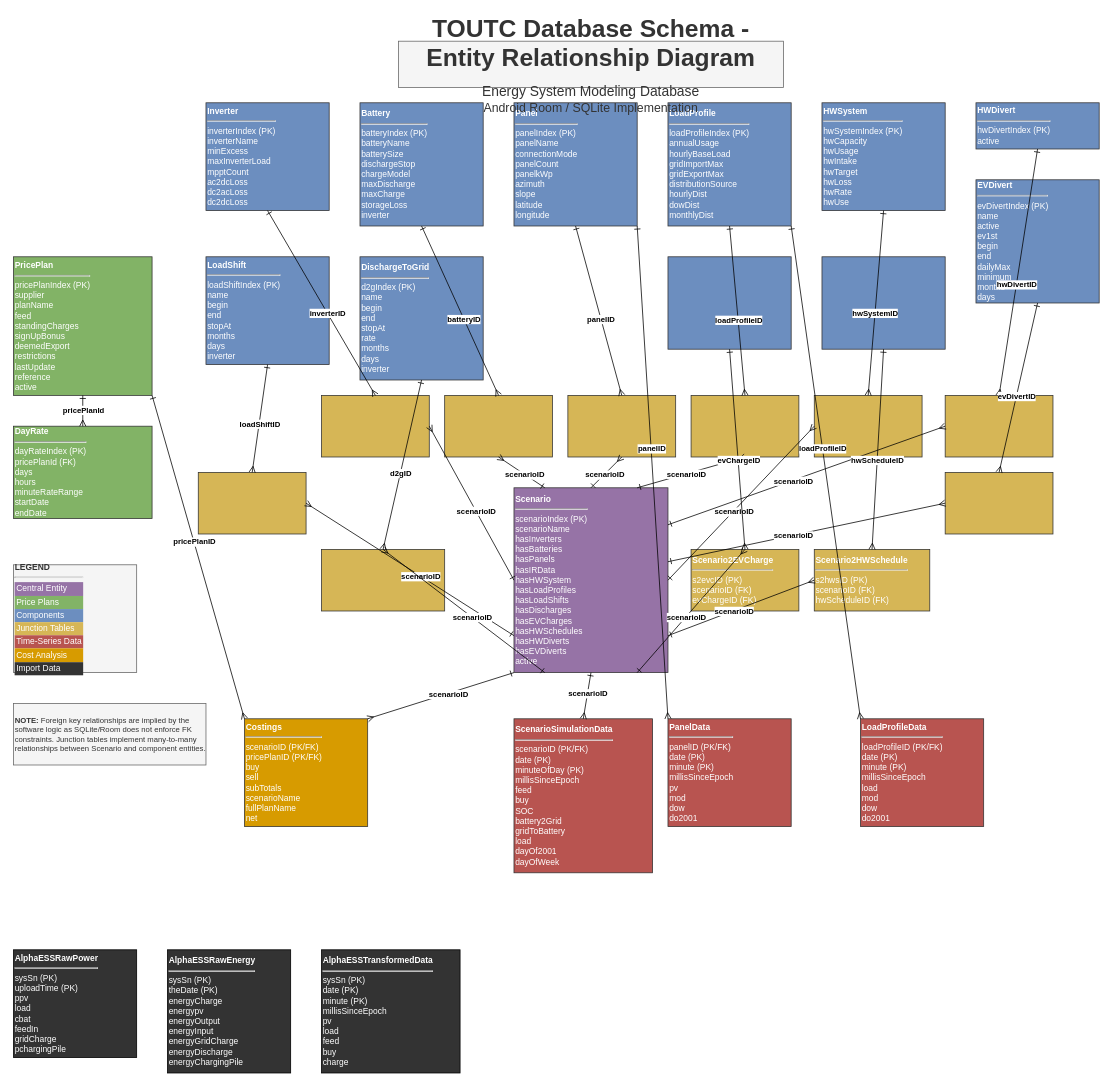
This 1113x1086 diagram has some shape labels left out. The centre of each missing label's shape, as x and y in pixels:
"EVCharge evChargeIndex (PK) name begin end draw months days" goes at point (729, 302).
"HWSchedule hwScheduleIndex (PK) name begin end months days" goes at point (883, 302).
"Scenario2Battery s2bID (PK) scenarioID (FK) batteryID (FK)" goes at point (498, 426).
"Scenario2DischargeToGrid s2d2gID (PK) scenarioID (FK) d2gID (FK)" goes at point (383, 580).
"Scenario2EVDivert s2evdID (PK) scenarioID (FK) evDivertID (FK)" goes at point (998, 503).
"Scenario2HWDivert s2hwdID (PK) scenarioID (FK) hwDivertID (FK)" goes at point (998, 426).
"Scenario2HWSystem s2hwID (PK) scenarioID (FK) hwSystemID (FK)" goes at point (868, 426).
"Scenario2Inverter s2iID (PK) scenarioID (FK) inverterID (FK)" goes at point (375, 426).
"Scenario2LoadProfile s2lpID (PK) scenarioID (FK) loadProfileID (FK)" goes at point (744, 426).
"Scenario2LoadShift s2lsID (PK) scenarioID (FK) loadShiftID (FK)" goes at point (252, 503).
"Scenario2Panel s2pID (PK) scenarioID (FK) panelID (FK)" goes at point (621, 426).
